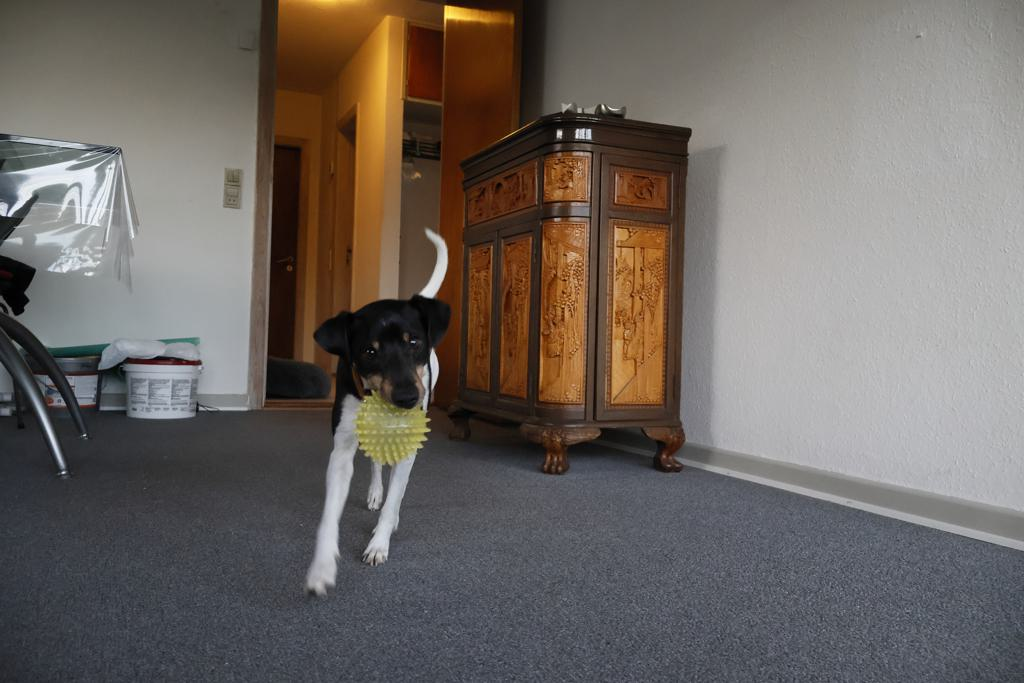Dog: (279, 205, 472, 627)
